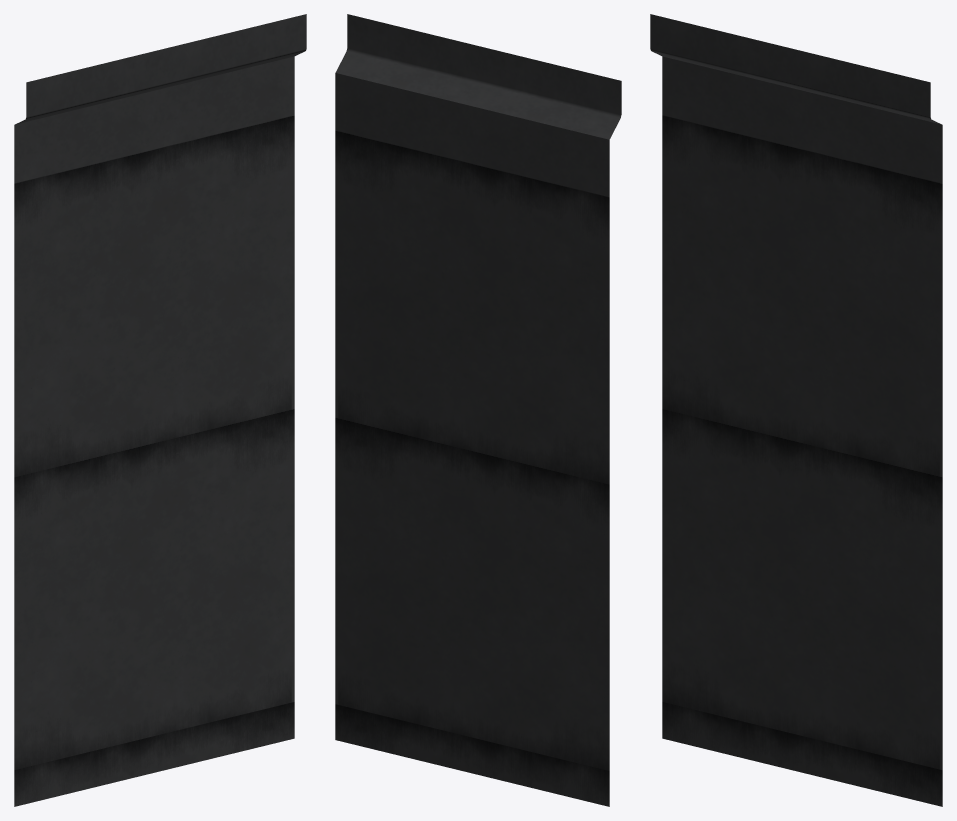
The model's file is M_Wall_Uper Half_4x20-10_v4.fbx.
The picture shows the model from 3 angles, left to right: view 1: azimuth 30°, elevation 25°; view 2: azimuth 150°, elevation 25°; view 3: azimuth 330°, elevation 25°; orthographic projection. The views are drawn at different scales.
Parts seen in each view (by area): view 1: Wall_Upper_Wall_10_20_v4; view 2: Wall_Upper_Wall_10_20_v4; view 3: Wall_Upper_Wall_10_20_v4.
Boxes of the visible parts, bbox=[...] form: Wall_Upper_Wall_10_20_v4: bbox=[14, 14, 306, 806]; Wall_Upper_Wall_10_20_v4: bbox=[335, 14, 621, 806]; Wall_Upper_Wall_10_20_v4: bbox=[650, 14, 942, 806].
Size of the model in its own units: 400 by 1000 by 30.
